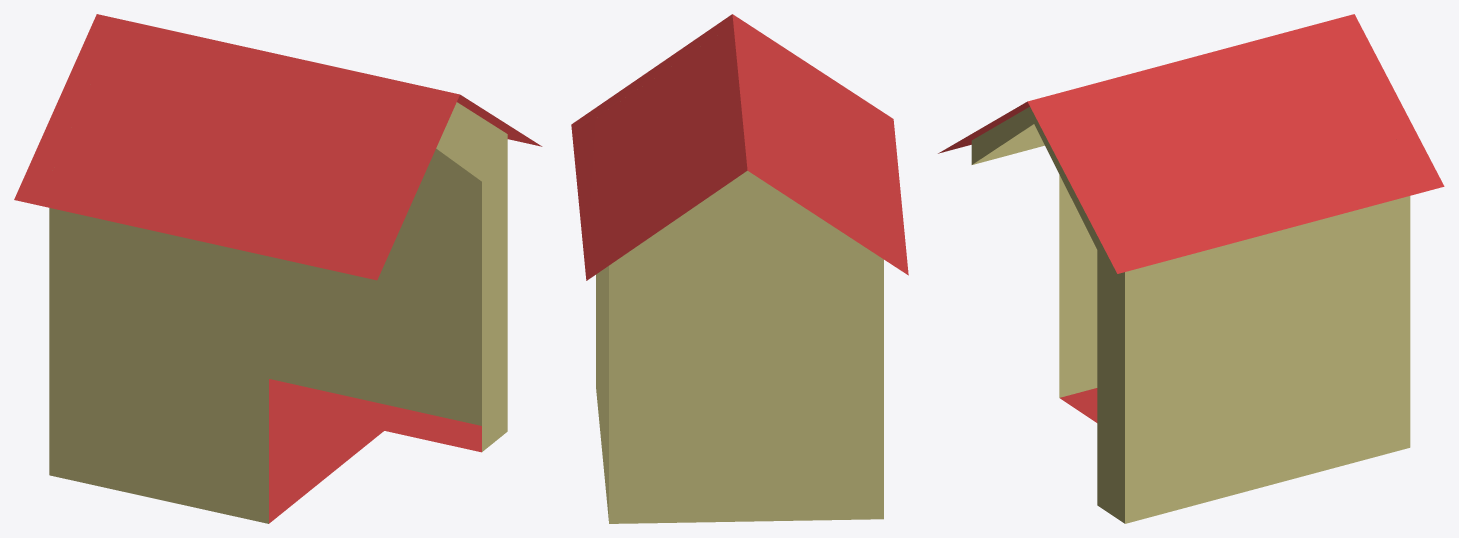
3 views of the same model, side by side, from view 1: azimuth 30°, elevation 25°; view 2: azimuth 150°, elevation 25°; view 3: azimuth 270°, elevation 25° (orthographic). The views are drawn at different scales.
Bounding box in the file's own units: 14.88 × 15.35 × 12.58.
